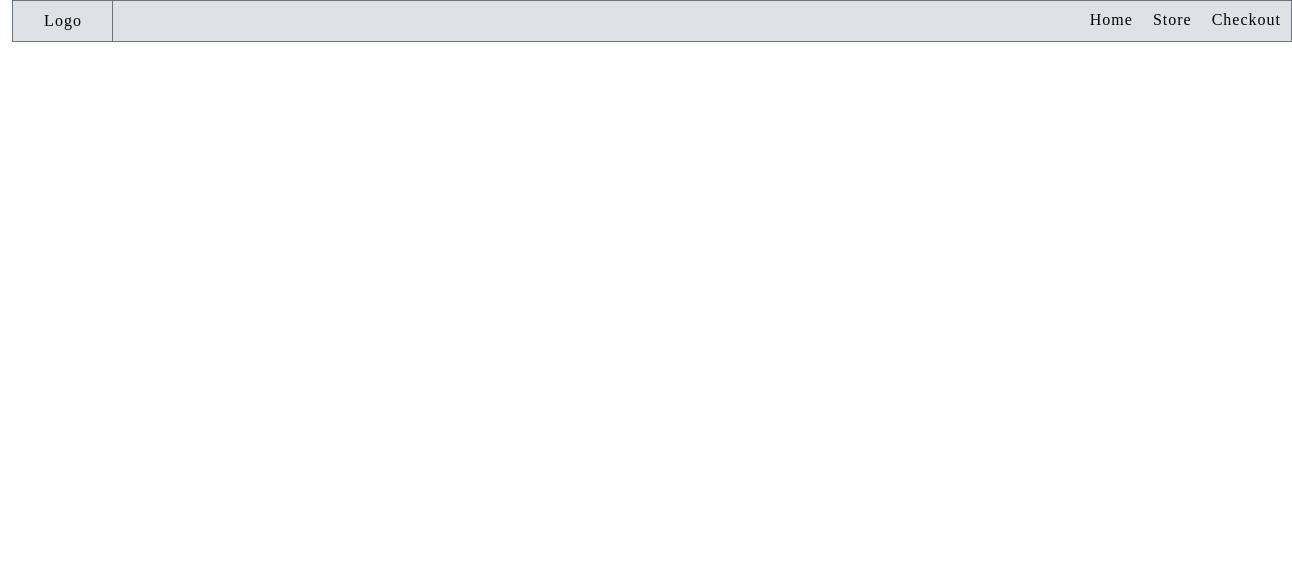
Store has the products
Click the link "Store" at (1172, 20), box x1=1153 y1=11 x2=1192 y2=28
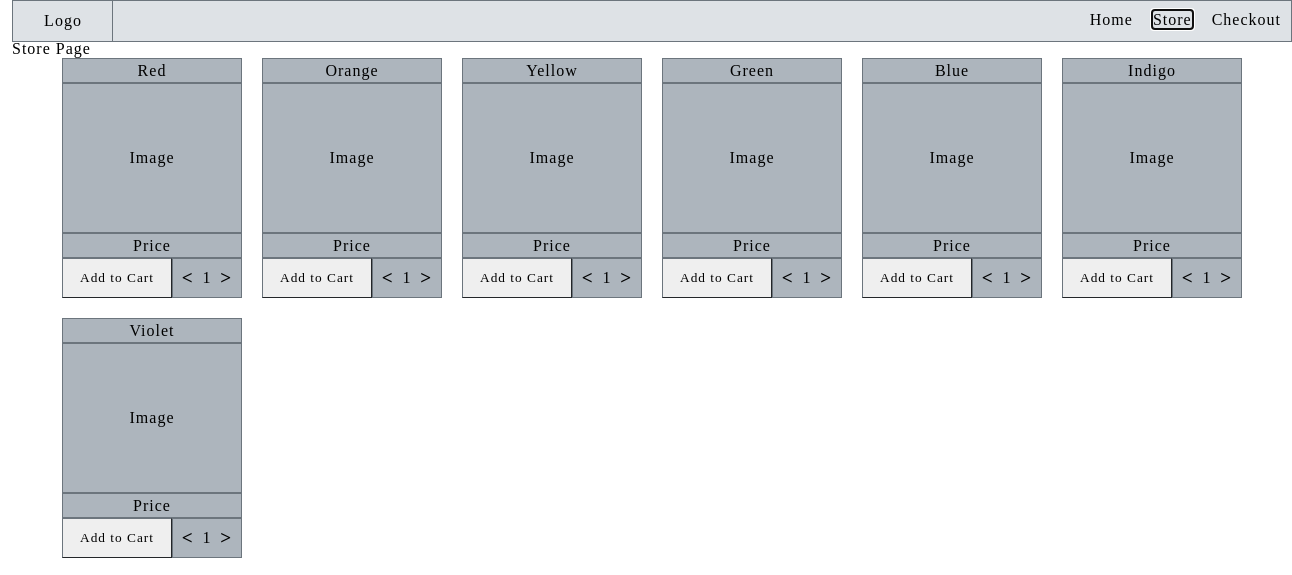
Now the text "Red" is shown, box x1=62 y1=58 x2=242 y2=83
Now the text "Image" below "Red" is shown, box x1=130 y1=149 x2=174 y2=166
Now the text "Price" below "Red" is shown, box x1=133 y1=236 x2=171 y2=254
